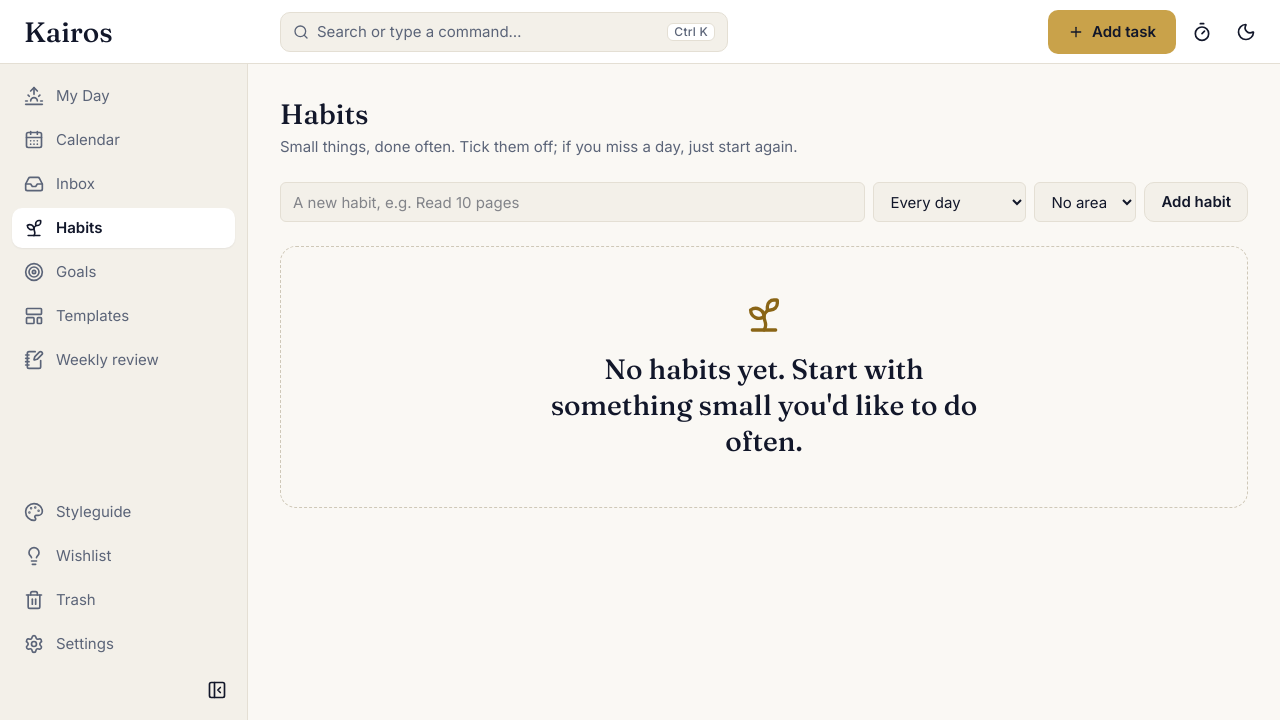
Test: Habits (P3-T02) › adds a habit and ticks it for today
Expected: the text "No habits yet" is shown, [551,352,977,458]
Step 1. Type "Read 10 pages" into the field labelled "habit" → (573, 202), box [280,182,865,222]
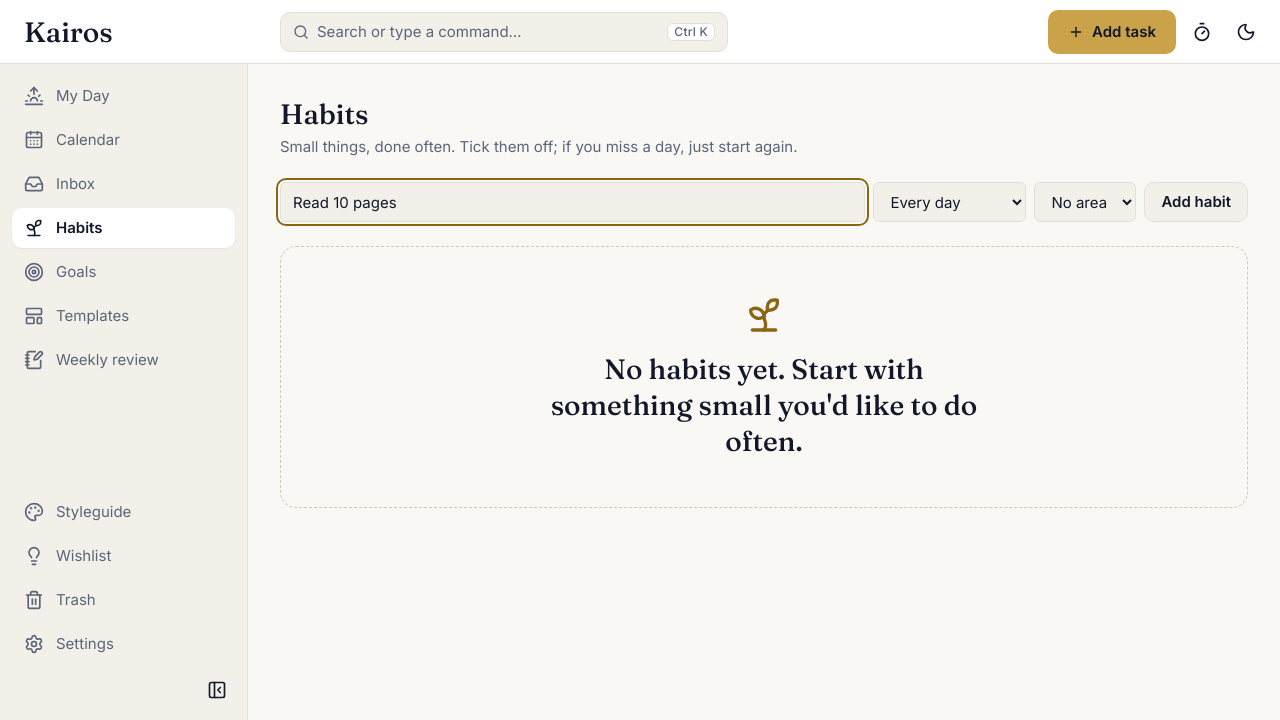
Step 2. Select "3 times a week" in the dropdown named "How often" → (950, 202), box [873,182,1026,222]
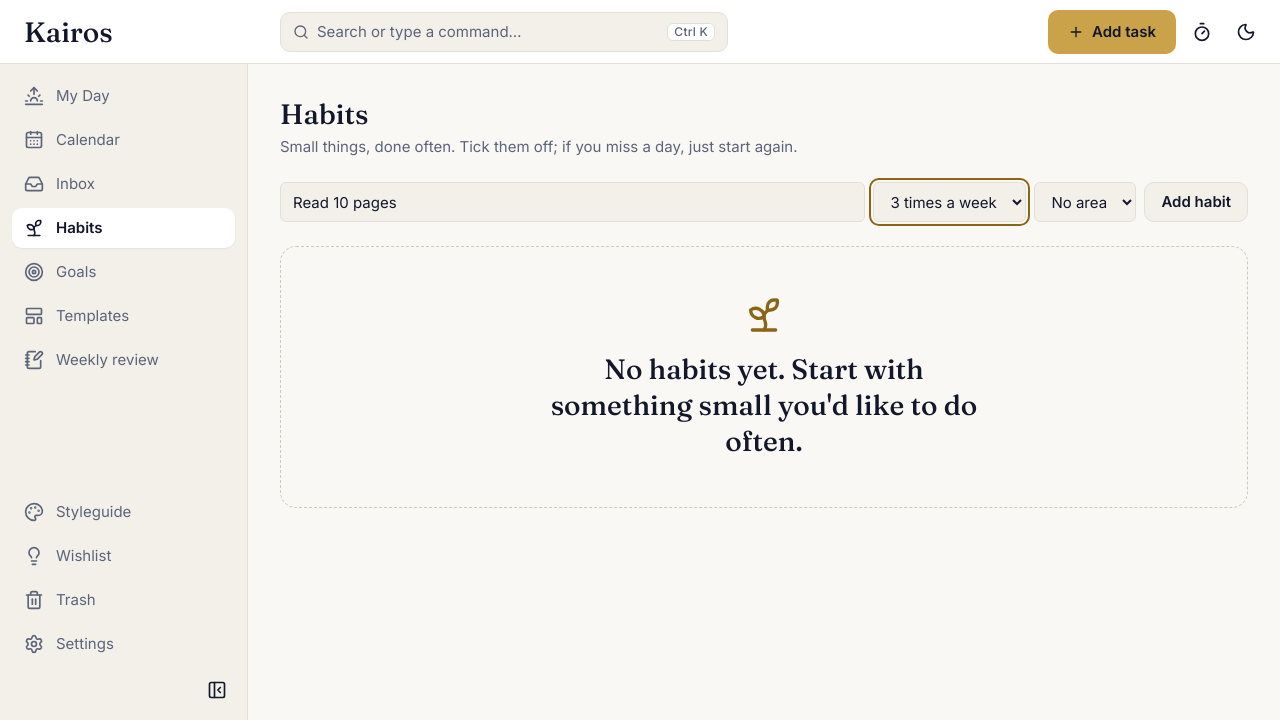
Step 3. Click the button "Add habit" → (1196, 202), box [1144,182,1248,222]
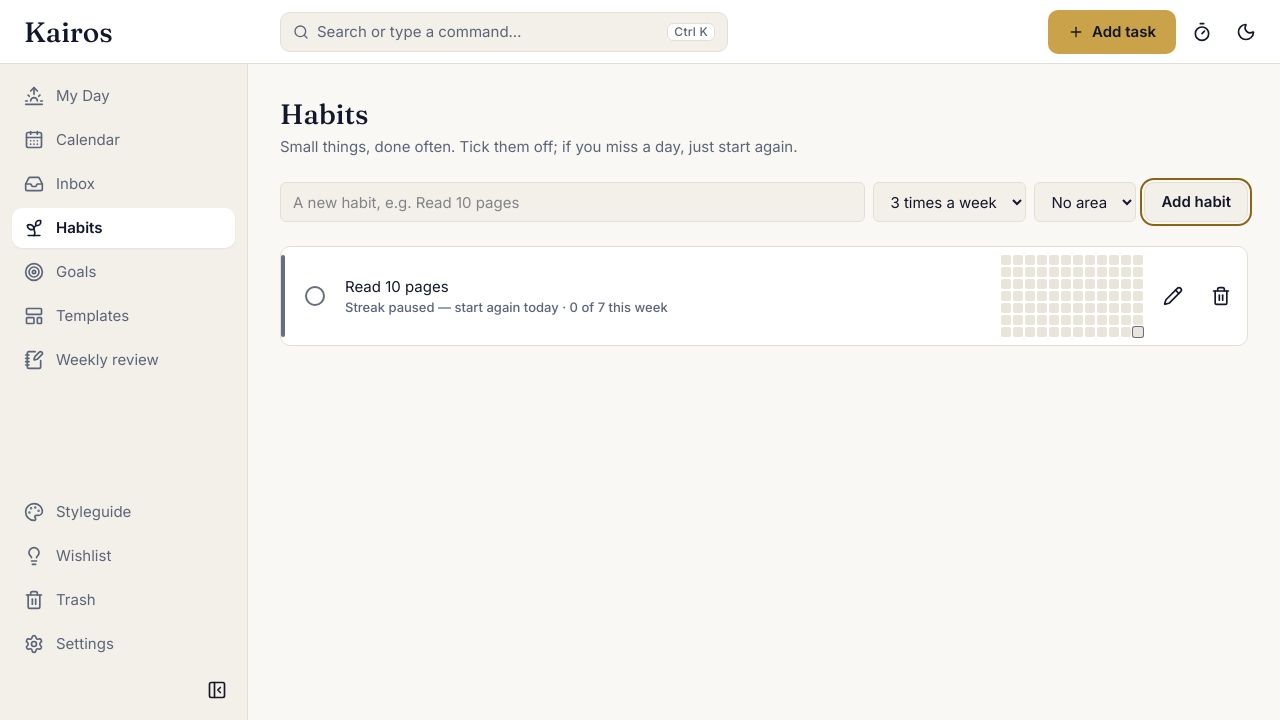
Now the text "Streak paused — start again today · 0 of 7 this week" is shown, box [345,299,668,315]
Step 4. Click the checkbox named "Mark “Read 10 pages” as done today" → (315, 296), box [297,278,333,314]
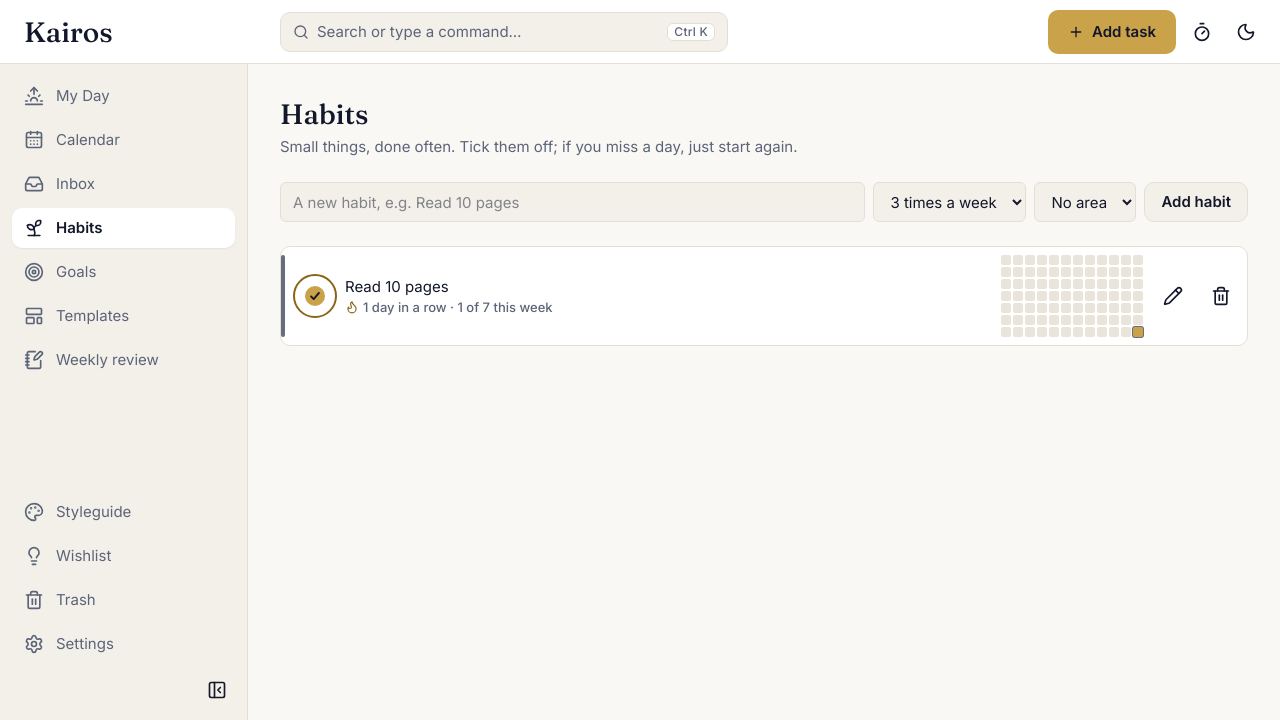
Now the text "1 day in a row · 1 of 7 this week" is shown, box [345,299,553,315]
Now the picture named "Done on 1 day in the last 12 weeks" is shown, box [1001,255,1143,337]
